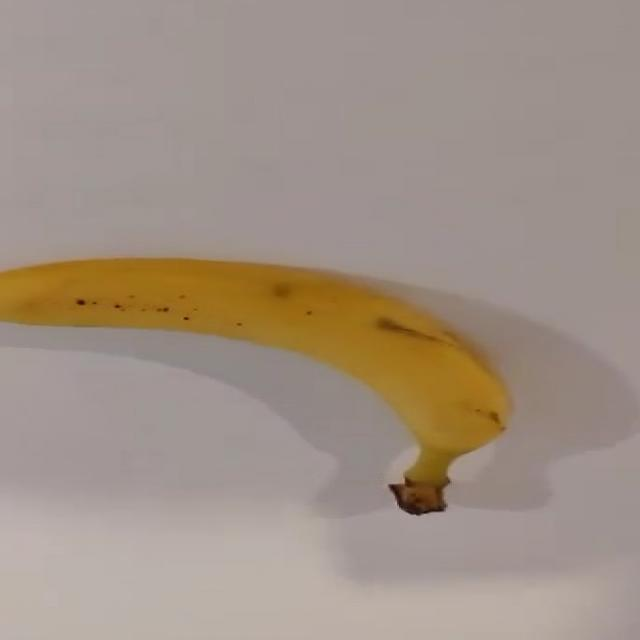Banana: (0, 260, 510, 468)
